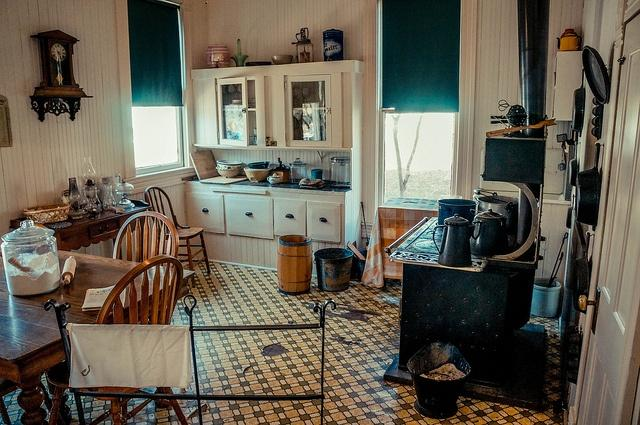Kursi: (143, 184, 210, 287)
Meja: (0, 247, 195, 386)
